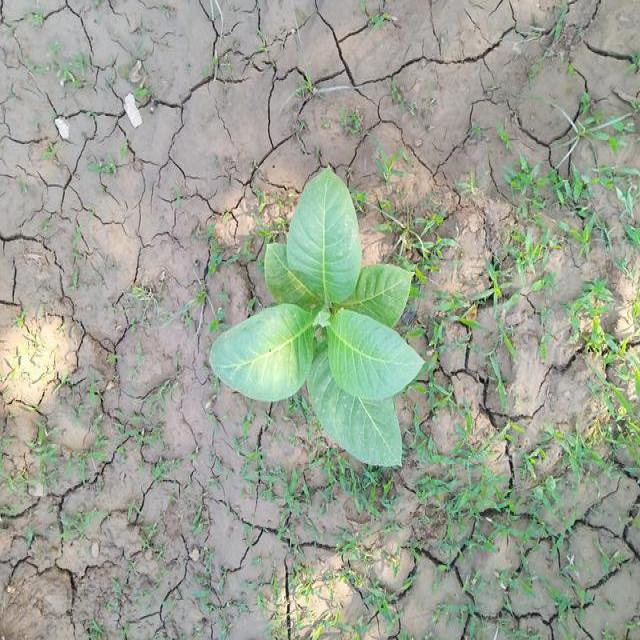crop: (211, 190, 416, 468)
